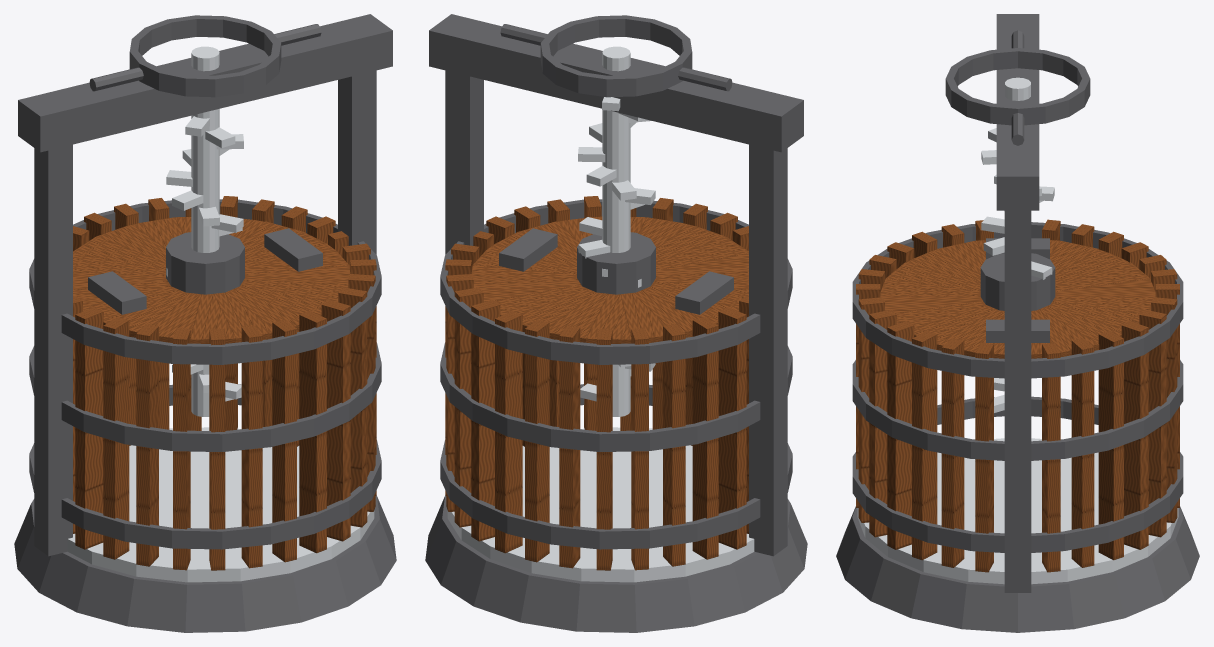
The model's file is basket-press.glb.
3 views of the same model, side by side, from view 1: azimuth 30°, elevation 25°; view 2: azimuth 150°, elevation 25°; view 3: azimuth 270°, elevation 25° (orthographic). The views are drawn at different scales.
Parts seen in each view (by area): view 1: basket-press-dark, basket-press-timber, plate/timber, basket-press-steel, screw/dark, screw/steel, plate/dark; view 2: basket-press-dark, basket-press-timber, plate/timber, basket-press-steel, screw/steel, screw/dark, plate/dark; view 3: basket-press-dark, basket-press-timber, plate/timber, basket-press-steel, screw/dark, plate/dark, screw/steel.
Boxes of the visible parts, x1,y1,x2,y2 form: basket-press-dark: (14,14,396,632); basket-press-timber: (73,196,376,570); plate/timber: (73,217,350,343); basket-press-steel: (67,427,374,582); screw/dark: (89,15,321,97); screw/steel: (166,46,243,416); plate/dark: (88,228,322,314); basket-press-dark: (425,14,807,632); basket-press-timber: (445,196,748,570); plate/timber: (471,216,748,343); basket-press-steel: (447,427,754,582); screw/steel: (578,46,655,416); screw/dark: (500,15,732,97); plate/dark: (499,228,733,314); basket-press-dark: (836,14,1199,632); basket-press-timber: (856,219,1179,572); plate/timber: (880,240,1155,358); basket-press-steel: (857,438,1178,584); screw/dark: (945,30,1090,145); plate/dark: (980,238,1055,342); screw/steel: (981,77,1054,412).
Bounding box in the file's own units: 1.44 × 1.97 × 1.36.
3 materials, 1 textured.
